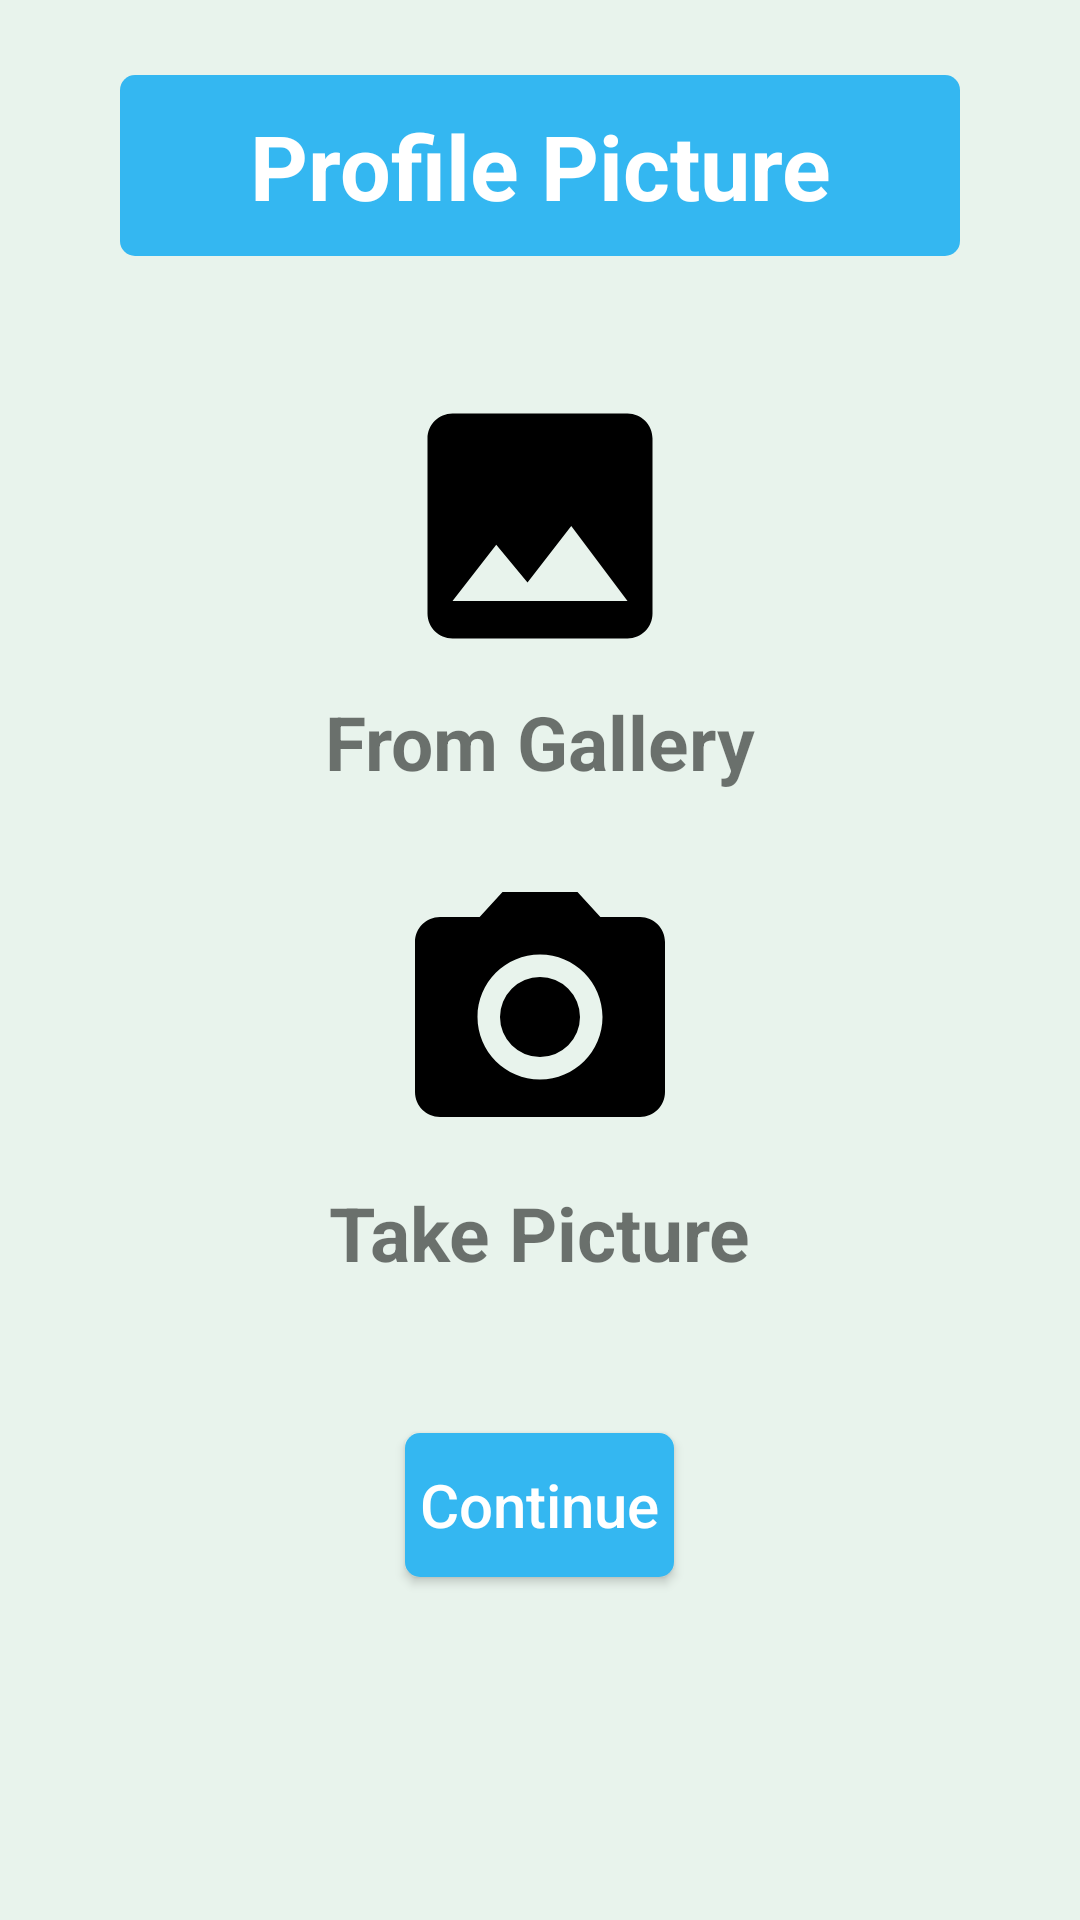

Where icons sit on this 1080px x 1920px app screen, as (x1, y1, x2, y2):
camera: (415, 892, 665, 1117)
